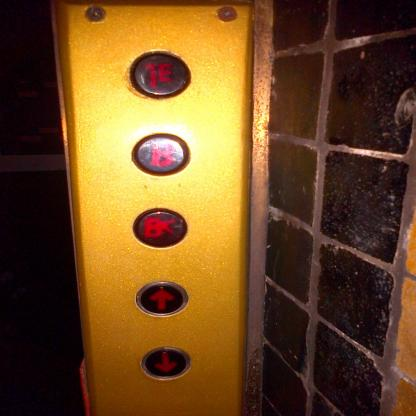1E: (127, 49, 193, 101)
B: (130, 132, 192, 177)
BC: (130, 208, 192, 249)
down: (140, 346, 192, 379)
up: (134, 280, 189, 316)
